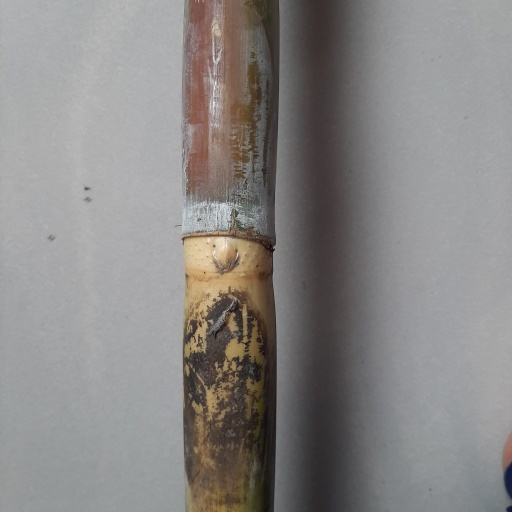Bud: (209, 235, 239, 273)
